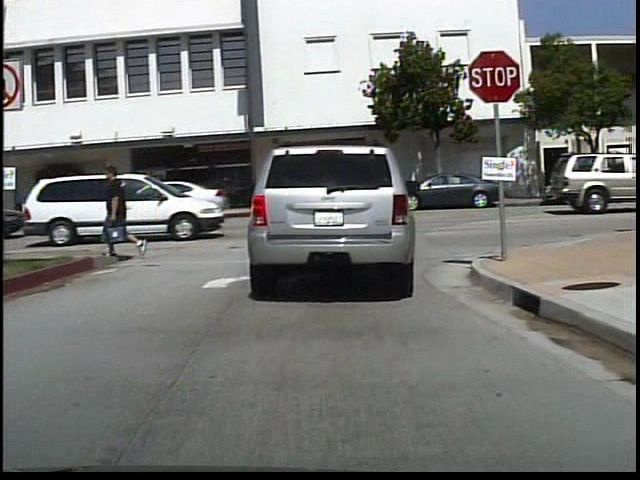person: (94, 162, 151, 261), (68, 175, 92, 223), (39, 174, 62, 219)
